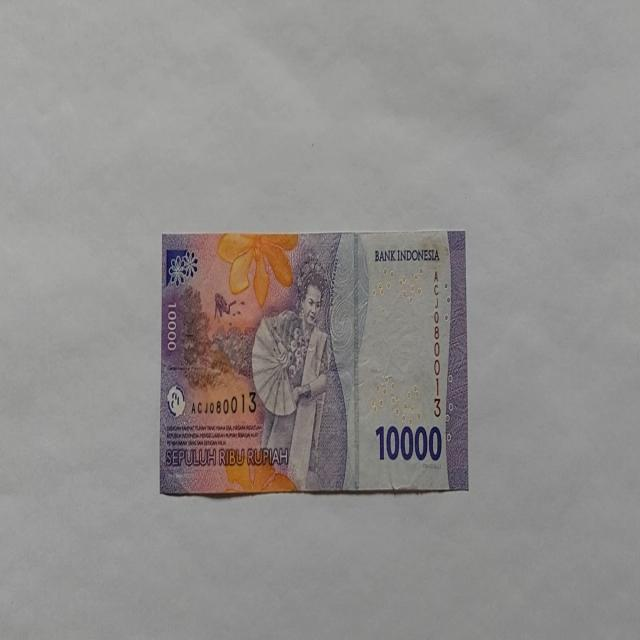sepuluh ribu rupiah: (158, 228, 468, 497)
